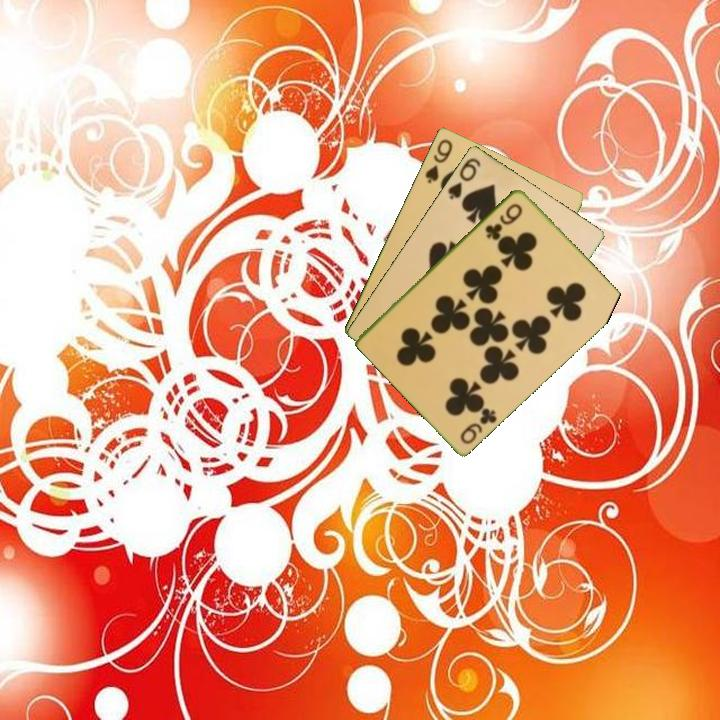6s: (444, 154, 484, 202)
9c: (481, 199, 525, 242), (457, 404, 500, 447)
9s: (421, 135, 455, 186)
